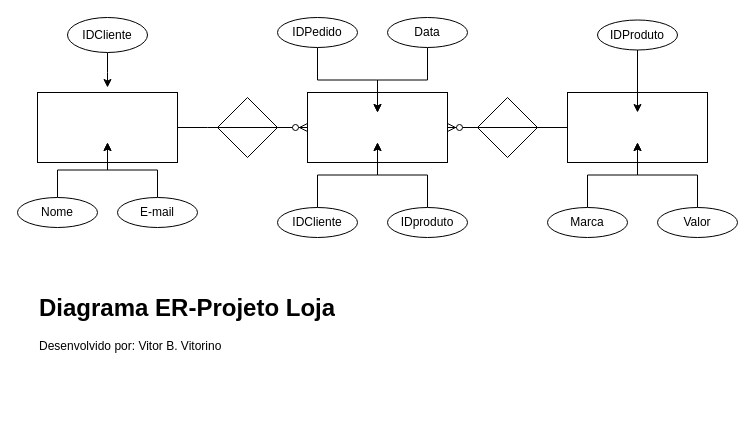
This 755x428 diagram has some shape labels left out. The centre of each missing label's shape, as x and y in pixels:
CLIENTES: [107,127]
PEDIDOS: [377,127]
PRODUTOS: [637,127]
